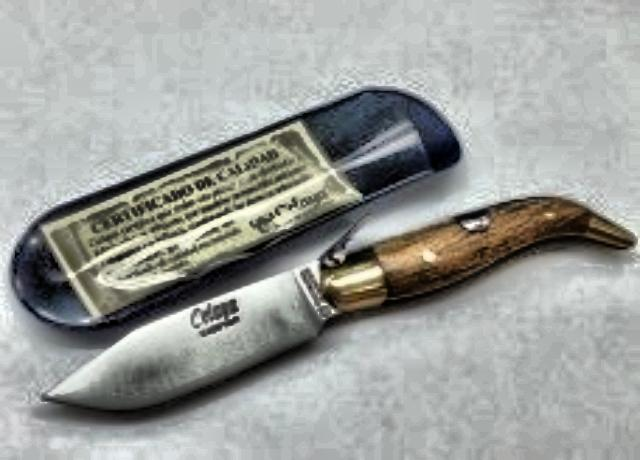knife: (25, 239, 373, 415)
